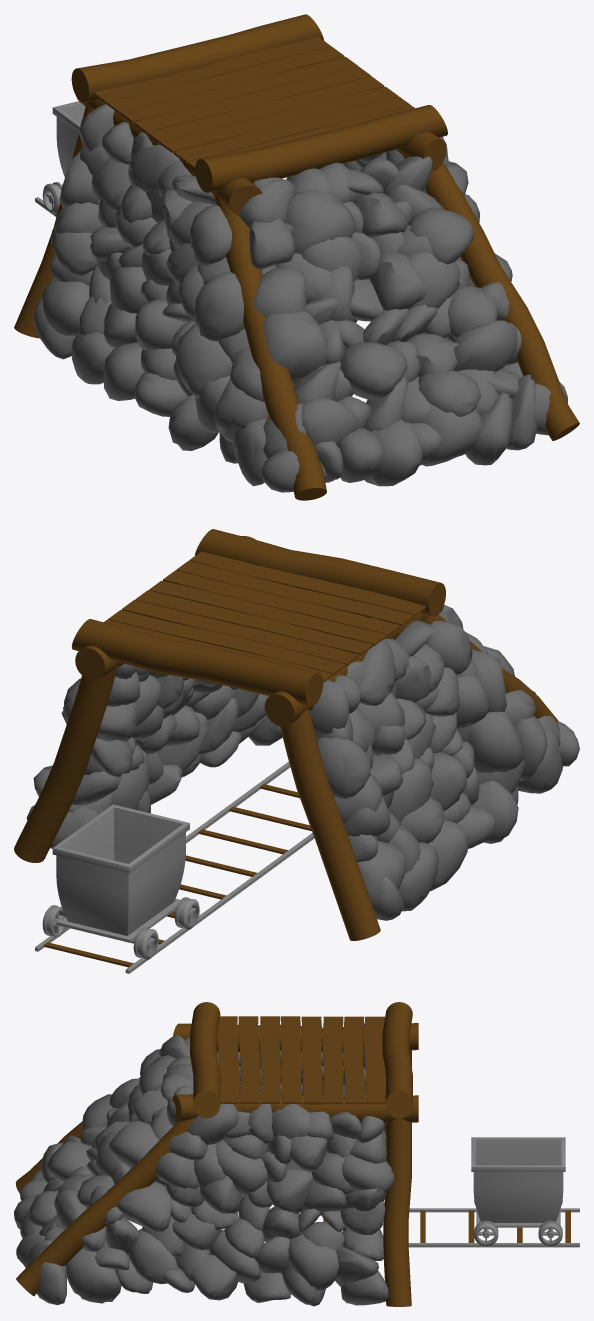
Rendered from Kopalnia.fbx.
3 views of the same model, one above another, from view 1: azimuth 30°, elevation 25°; view 2: azimuth 150°, elevation 25°; view 3: azimuth 270°, elevation 25° (orthographic). The views are drawn at different scales.
Parts seen in each view (by area): view 1: Cube; view 2: Cube; view 3: Cube.
Part boxes in pixels (x1,y1,x2,y2): Cube: (14,14,579,500); Cube: (14,529,579,973); Cube: (14,1002,579,1306).
Bounding box in the file's own units: 385 × 270 × 662.
